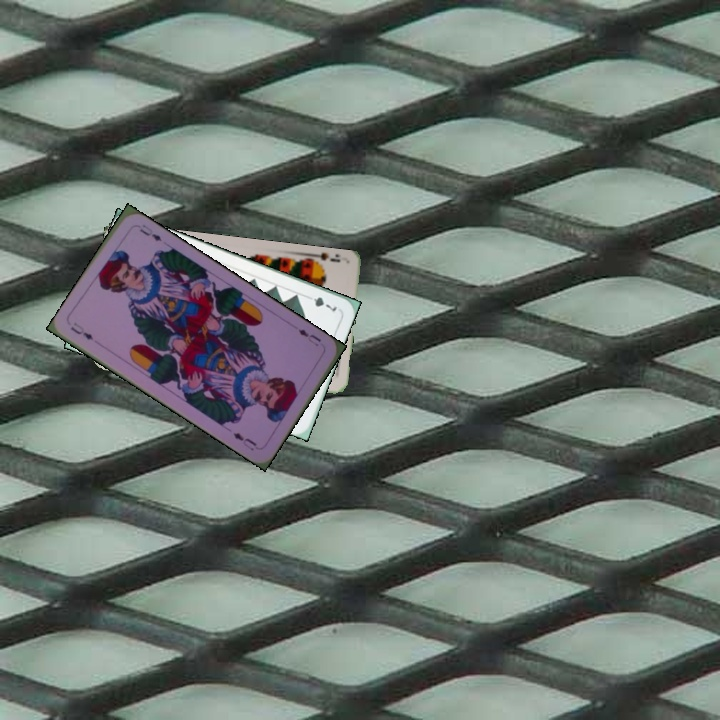EU: (66, 318, 96, 343), (294, 325, 324, 349)
G7: (302, 292, 340, 314)
S9: (306, 249, 343, 269)
